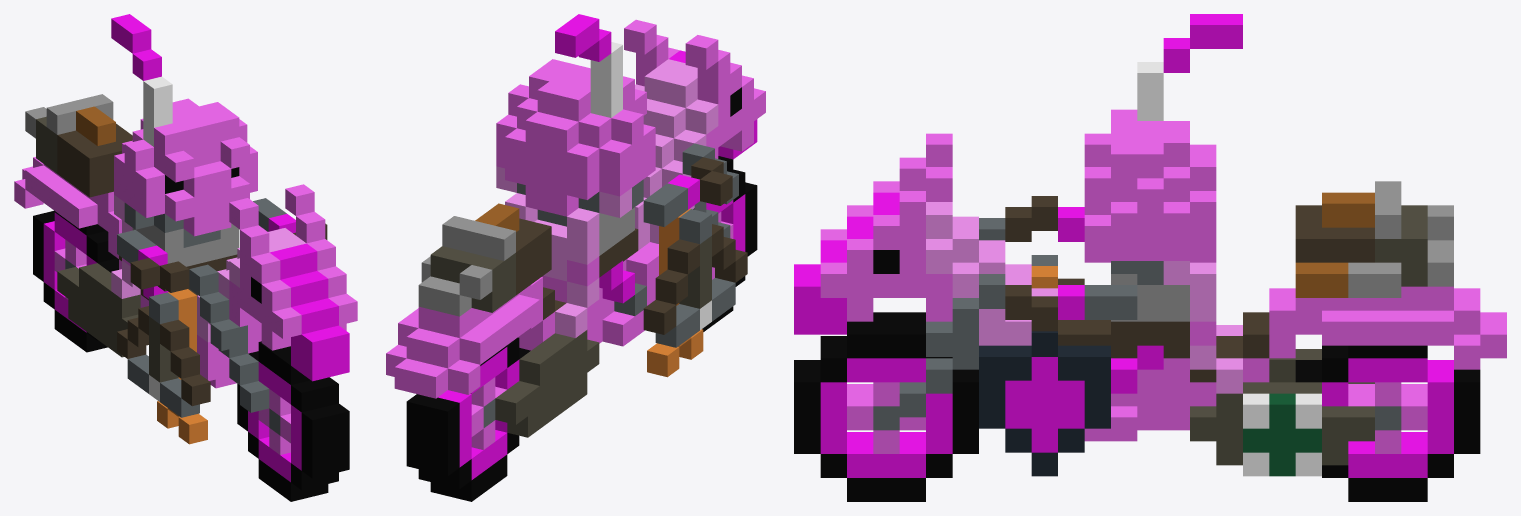
Rendered from mobile_infantry.obj.
3 views of the same model, side by side, from view 1: azimuth 30°, elevation 25°; view 2: azimuth 150°, elevation 25°; view 3: azimuth 270°, elevation 25° (orthographic). The views are drawn at different scales.
Bounding box in the file's own units: 1 × 1.9 × 2.7.
1 material, 1 textured.
